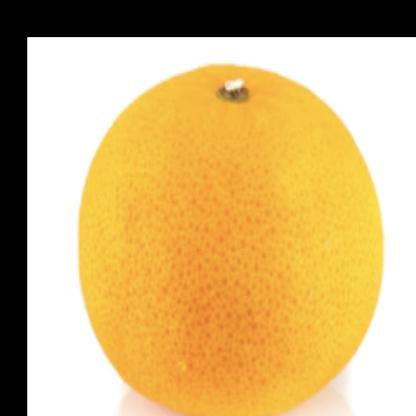fresh: (77, 67, 384, 416)
